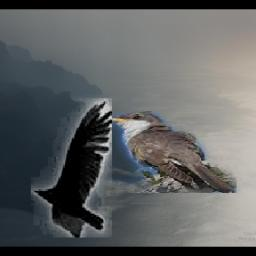Crow: (32, 98, 113, 237)
Cuckoo: (99, 111, 237, 193)
